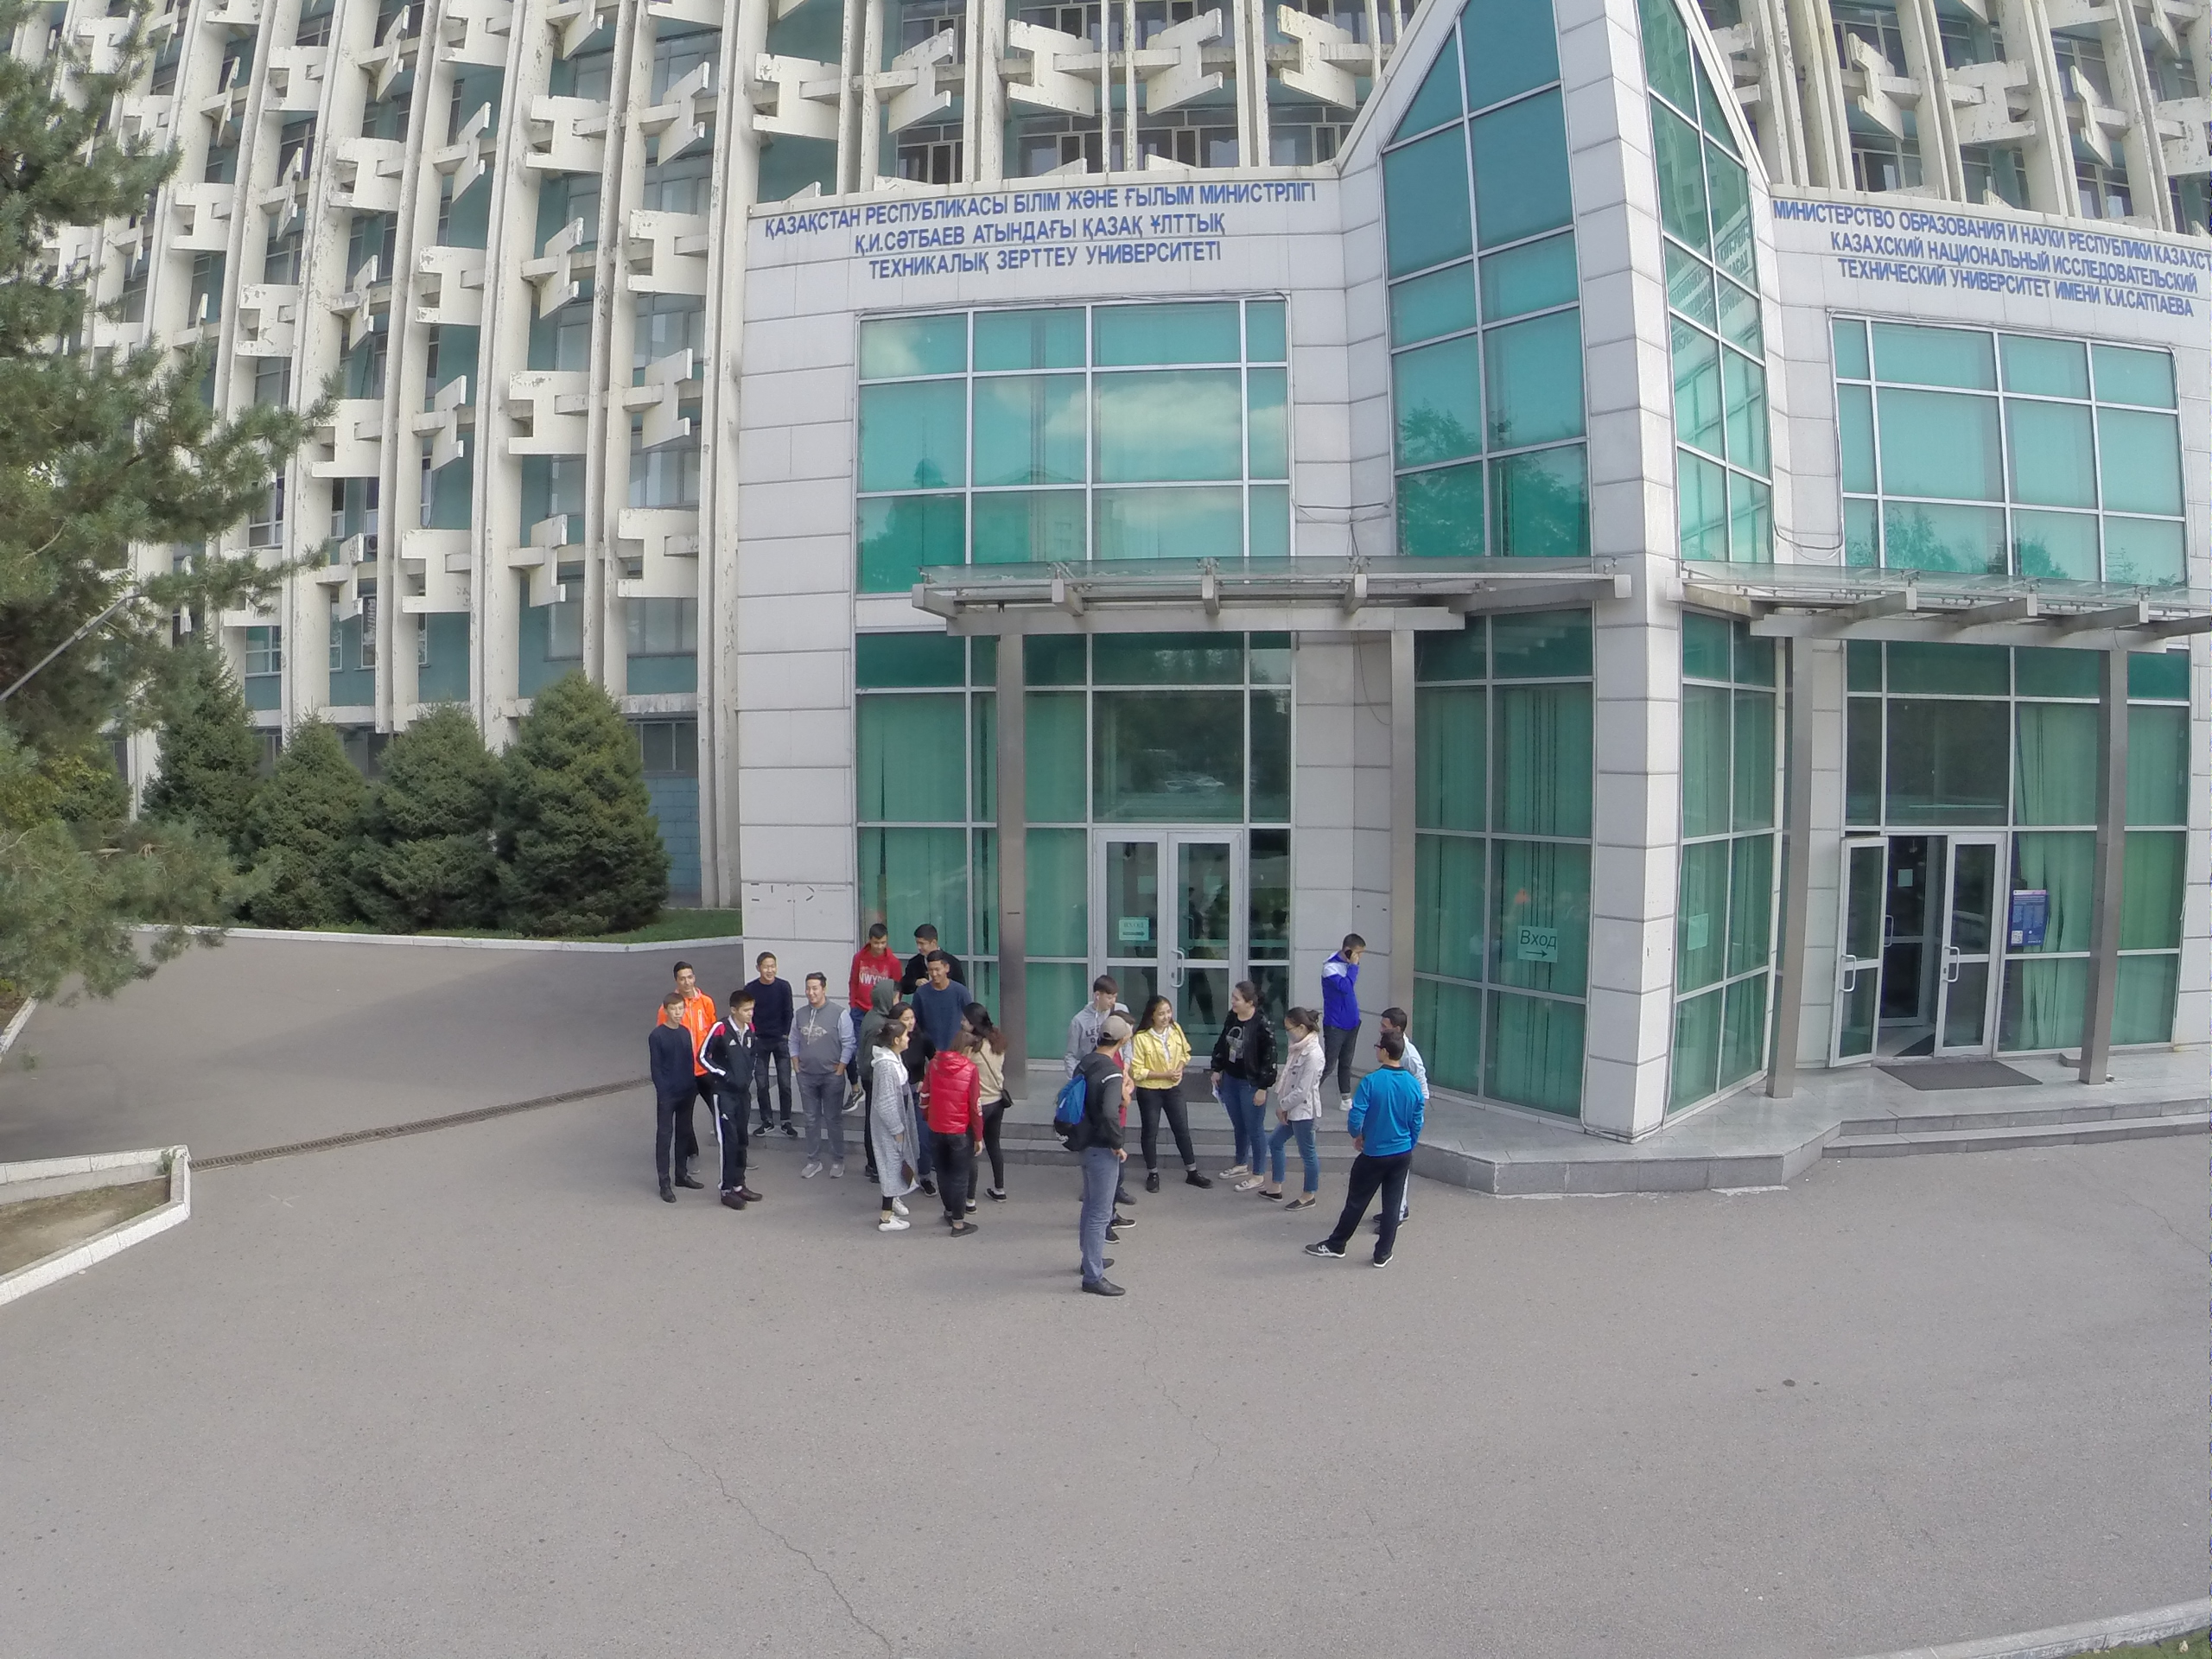person: (1059, 1016, 1129, 1299), (1345, 1042, 1421, 1268), (1139, 998, 1219, 1191), (1213, 978, 1281, 1198), (788, 972, 854, 1178), (707, 992, 766, 1218), (1268, 1004, 1324, 1208), (649, 1004, 707, 1200), (864, 1023, 918, 1232), (927, 1039, 977, 1237), (963, 998, 1012, 1204), (751, 951, 799, 1139), (1318, 927, 1364, 1104), (918, 957, 969, 1038), (852, 926, 897, 977), (671, 962, 711, 1001), (907, 917, 939, 967)
